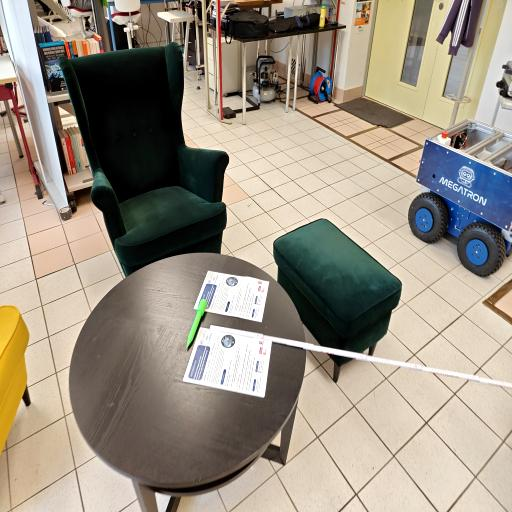Probe-Detection: (187, 299, 207, 348)
